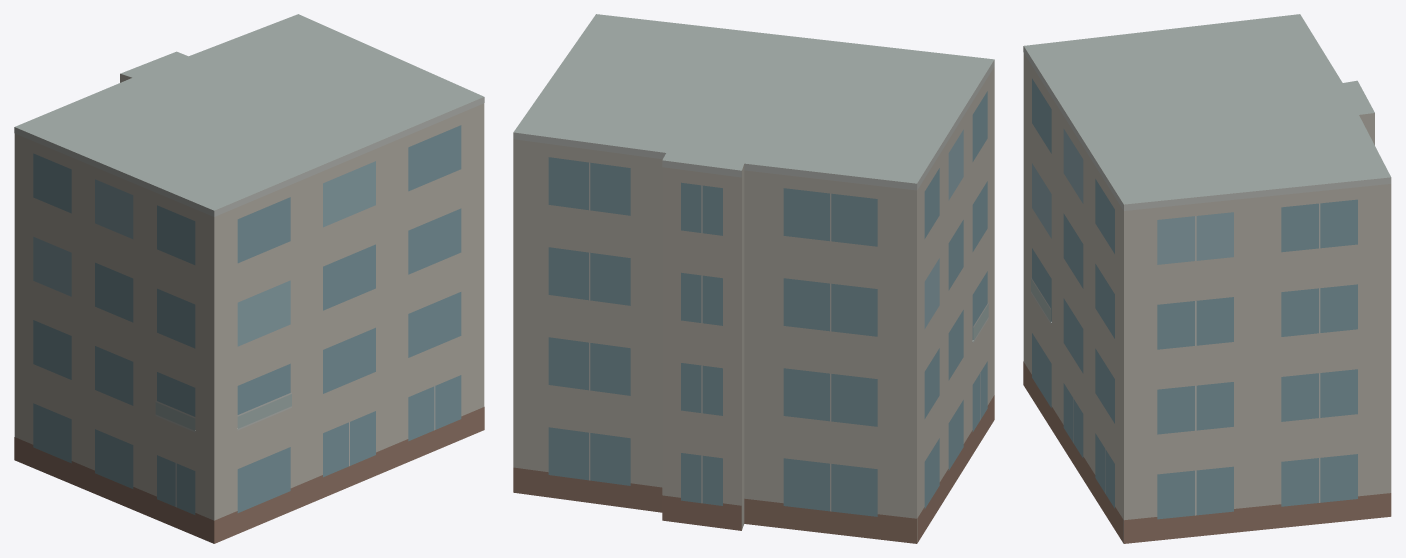
File: survey-upis-32677447.glb
3 renders of one model, left to right at view 1: azimuth 30°, elevation 25°; view 2: azimuth 150°, elevation 25°; view 3: azimuth 270°, elevation 25°, orthographic. The views are drawn at different scales.
Parts seen in each view (by area): view 1: survey-upis-32677447.tmp; view 2: survey-upis-32677447.tmp; view 3: survey-upis-32677447.tmp.
Part boxes in pixels (x1,y1,x2,y2): survey-upis-32677447.tmp: [14, 14, 484, 543]; survey-upis-32677447.tmp: [513, 14, 994, 543]; survey-upis-32677447.tmp: [1023, 14, 1391, 543].
Bounding box in the file's own units: 15.46 × 12.82 × 12.61.
